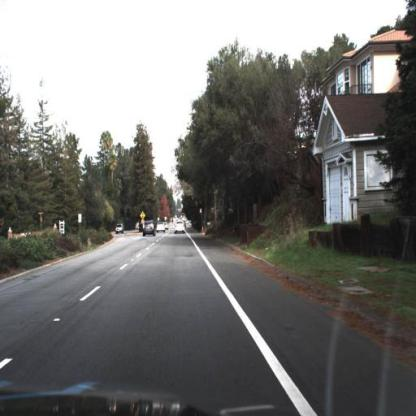car: (140, 218, 158, 240), (172, 216, 188, 238), (113, 219, 125, 237), (156, 217, 167, 236), (114, 220, 126, 236)
